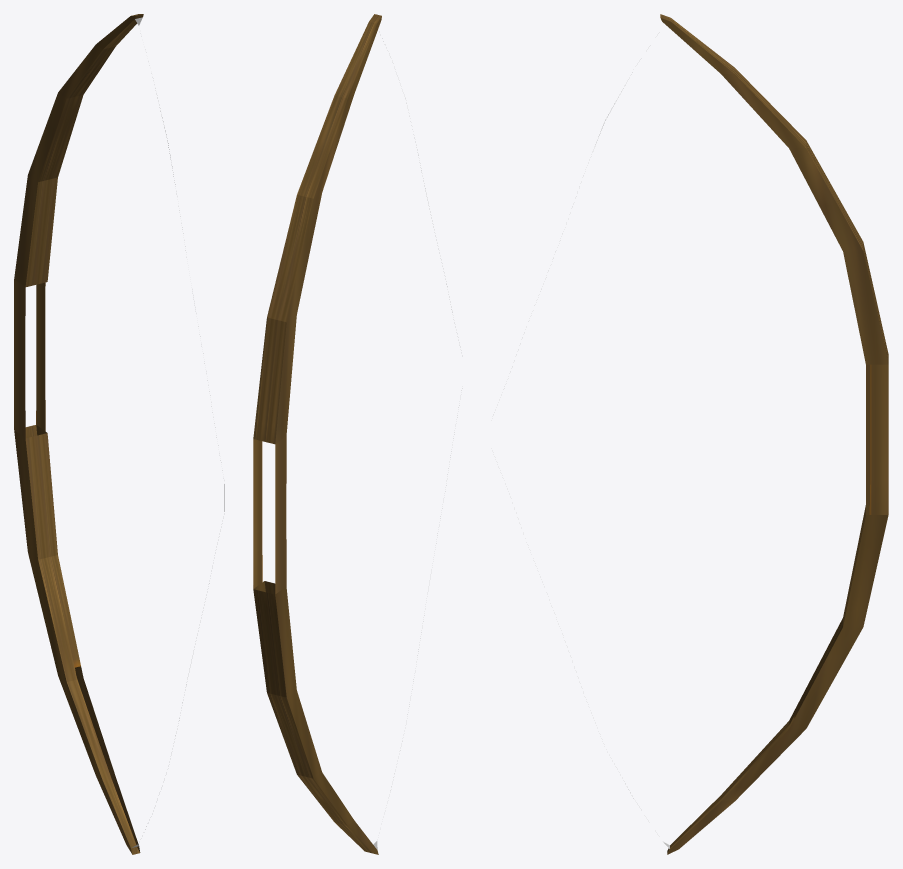
The model's file is Longbow9.obj.
3 views of the same model, side by side, from view 1: azimuth 30°, elevation 25°; view 2: azimuth 150°, elevation 25°; view 3: azimuth 270°, elevation 25° (orthographic).
Size of the model in its own units: 0.2246 by 8.17 by 3.52.
